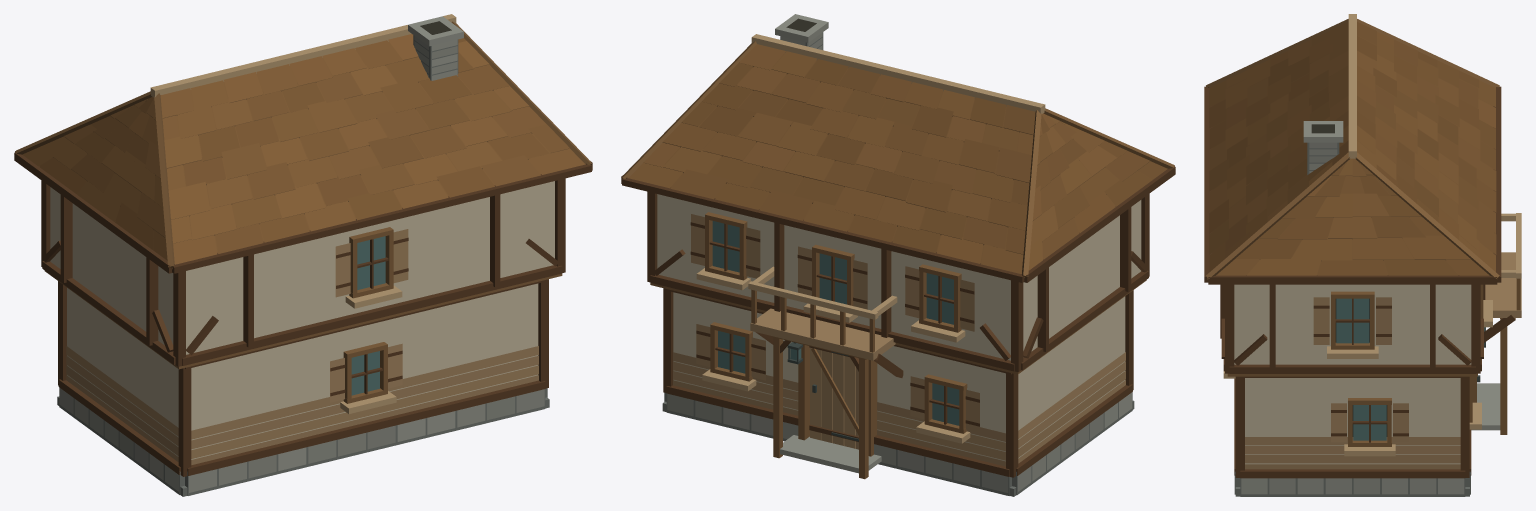
Rendered from LongCabinL2.glb.
3 views of the same model, side by side, from view 1: azimuth 30°, elevation 25°; view 2: azimuth 150°, elevation 25°; view 3: azimuth 270°, elevation 25° (orthographic). The views are drawn at different scales.
Visible parts, largest first — view 1: LongCabinL2_Body, HouseGlass; view 2: LongCabinL2_Body, HouseGlass, HouseDoor; view 3: LongCabinL2_Body, HouseGlass.
Boxes of the visible parts, left/top/right/bottom form: LongCabinL2_Body: left=14, top=14, right=592, bottom=496; HouseGlass: left=351, top=236, right=385, bottom=395; LongCabinL2_Body: left=621, top=14, right=1175, bottom=496; HouseGlass: left=712, top=221, right=959, bottom=425; HouseDoor: left=809, top=346, right=858, bottom=449; LongCabinL2_Body: left=1204, top=14, right=1521, bottom=496; HouseGlass: left=1336, top=298, right=1484, bottom=440.
Size of the model in its own units: 8.55 by 6.95 by 5.93.
